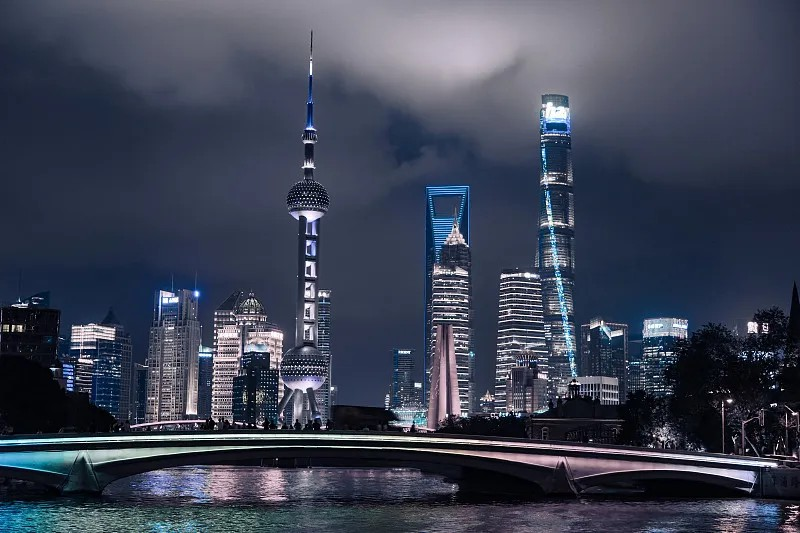Oriental: (279, 30, 330, 424)
